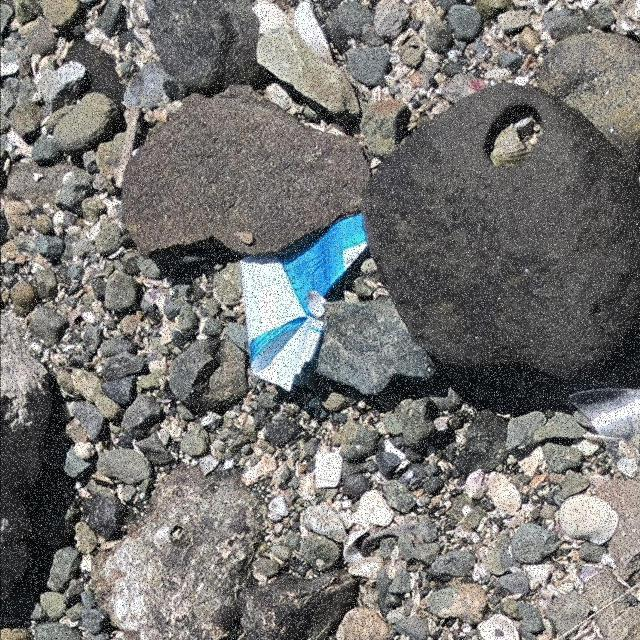plastic_waste: (239, 210, 368, 394)
